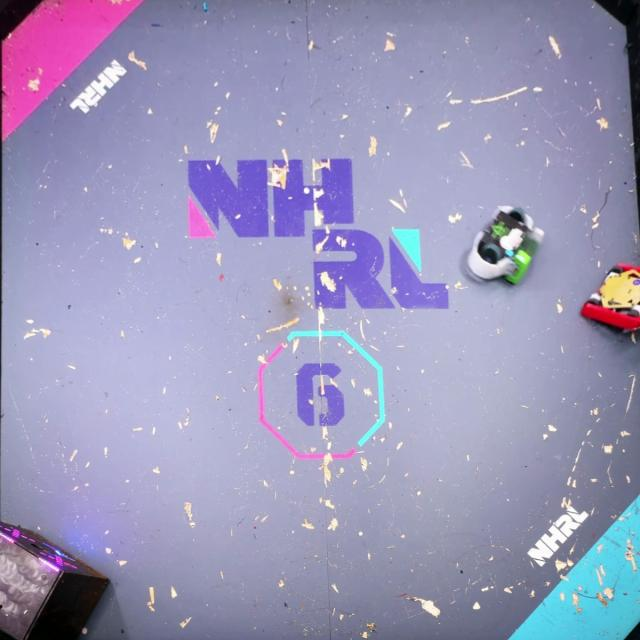housebot: (0, 517, 113, 639)
robot: (471, 204, 543, 286), (581, 260, 640, 343)
